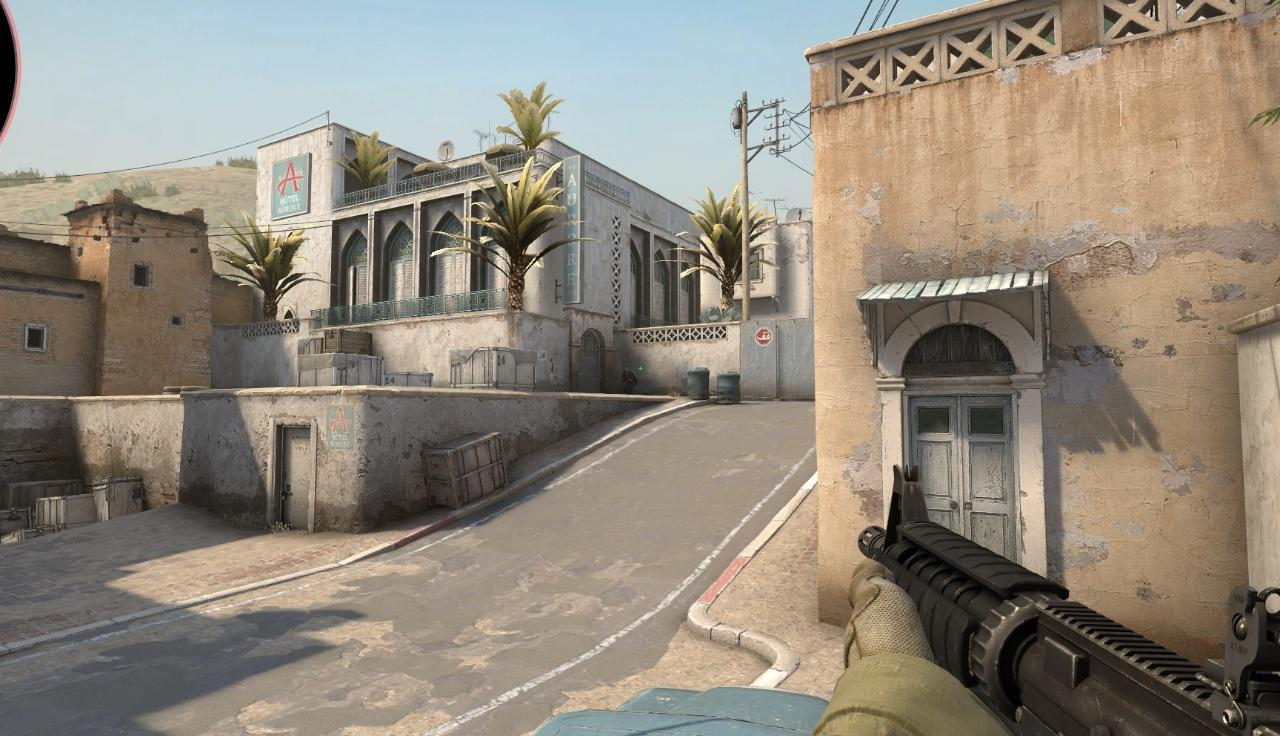rifle: (814, 462, 1280, 736)
tt: (622, 368, 637, 395)
tthead: (624, 368, 630, 375)
